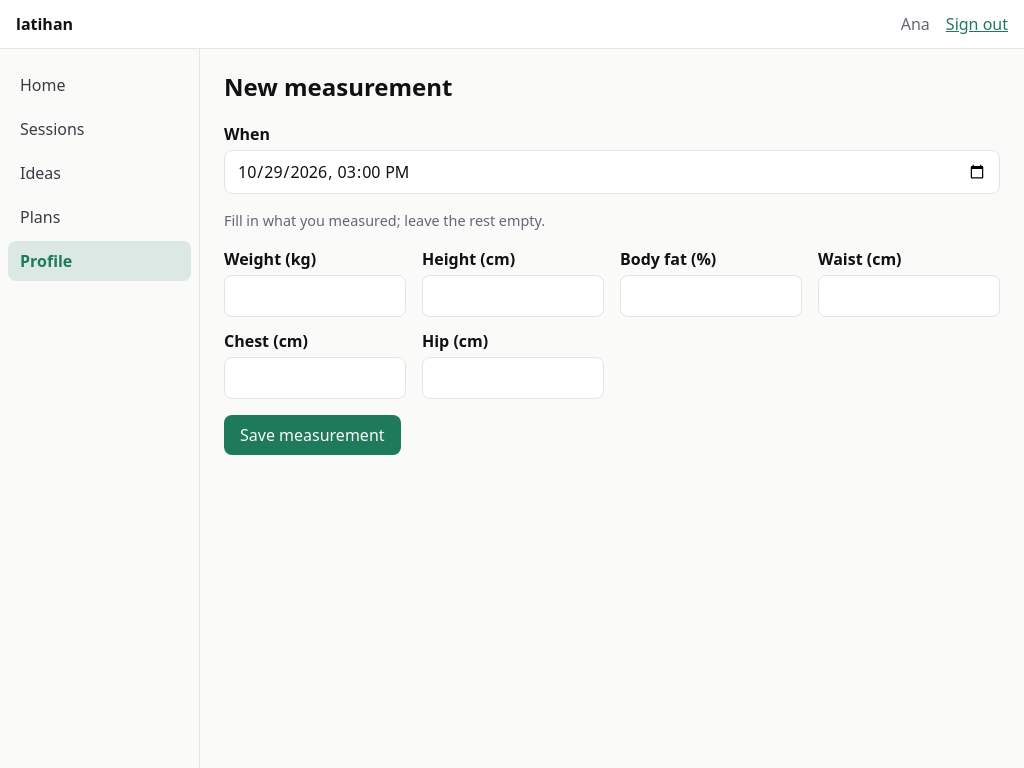
it: adding a measurement › checks each metric against its limits
In the field labelled "Weight (kg)": [315, 296] box [224,275,406,317], type "0"
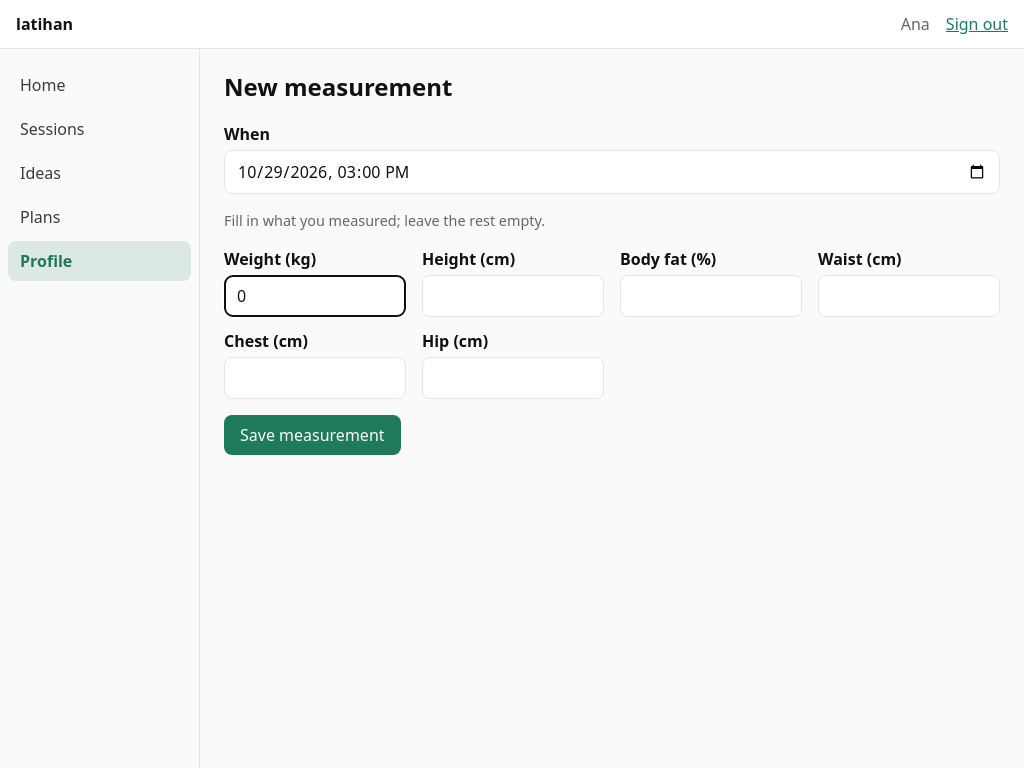
In the field labelled "Body fat (%)": [711, 296] box [620,275,802,317], type "101"
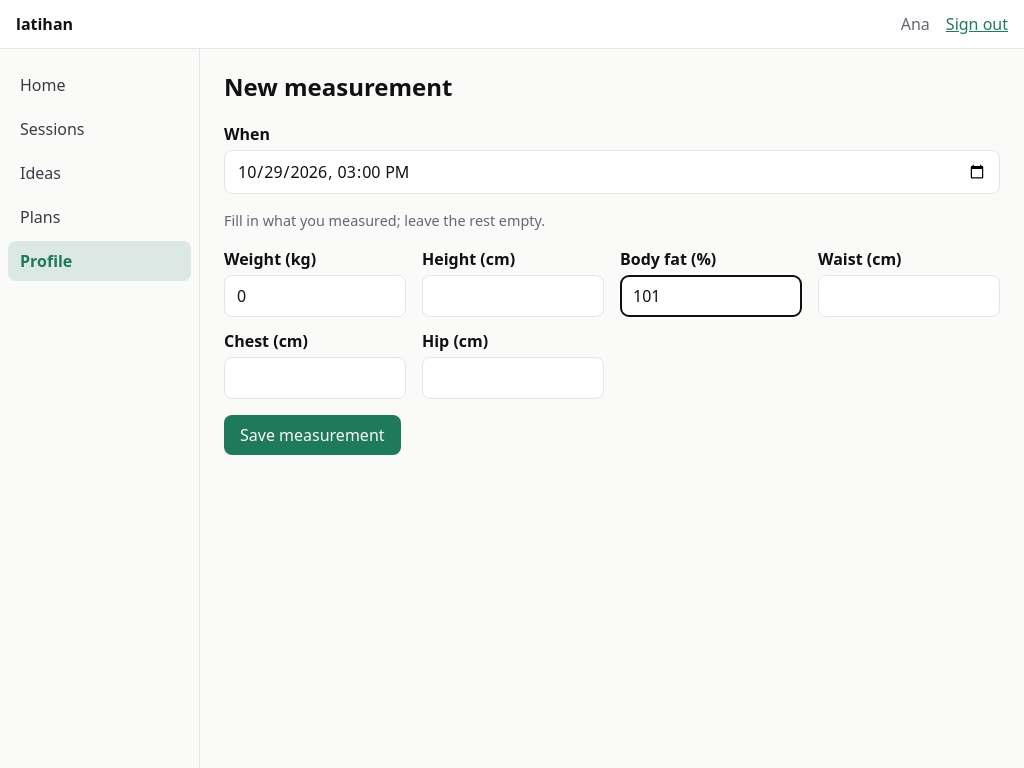
Click the button "Save measurement": [312, 435] box [224,415,400,455]
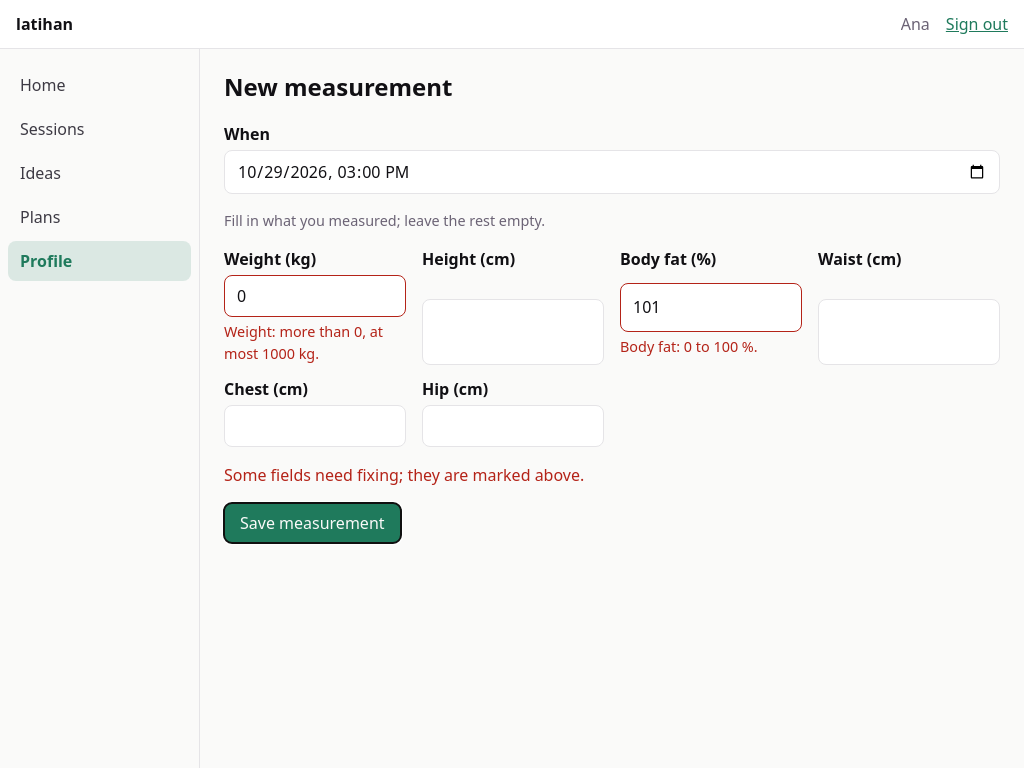
Now the text "Weight: more than 0, at most 1000 kg." is shown, box [224,321,406,364]
Now the text "Body fat: 0 to 100 %." is shown, box [620,337,758,356]
